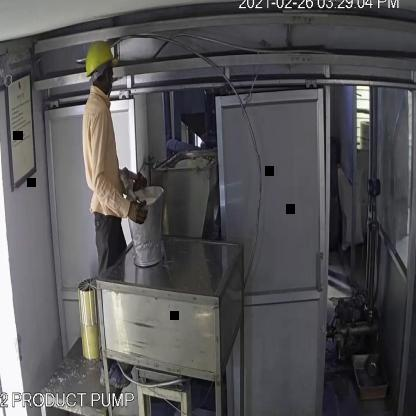helmet: (80, 32, 122, 84)
